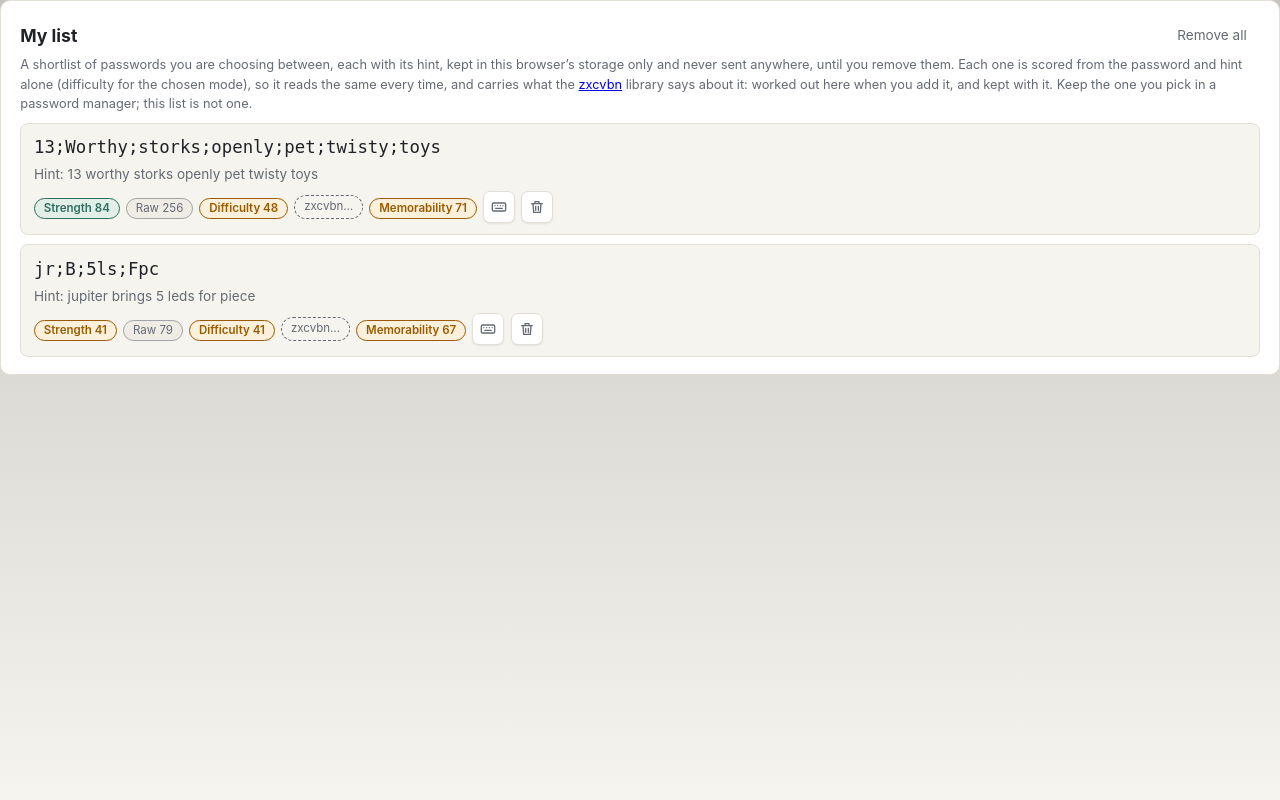
SelectedList › shows each entry with its hint and its cold score, and keeps the date out of sight
Expected: the number of list items is 2, [20,122,1260,235]; [20,244,1260,357]
Expected: the text "13 worthy storks openly pet twisty toys" is shown, [68,166,318,182]
Hover over the element showing "Strength 84": (77, 207) [34,195,120,219]
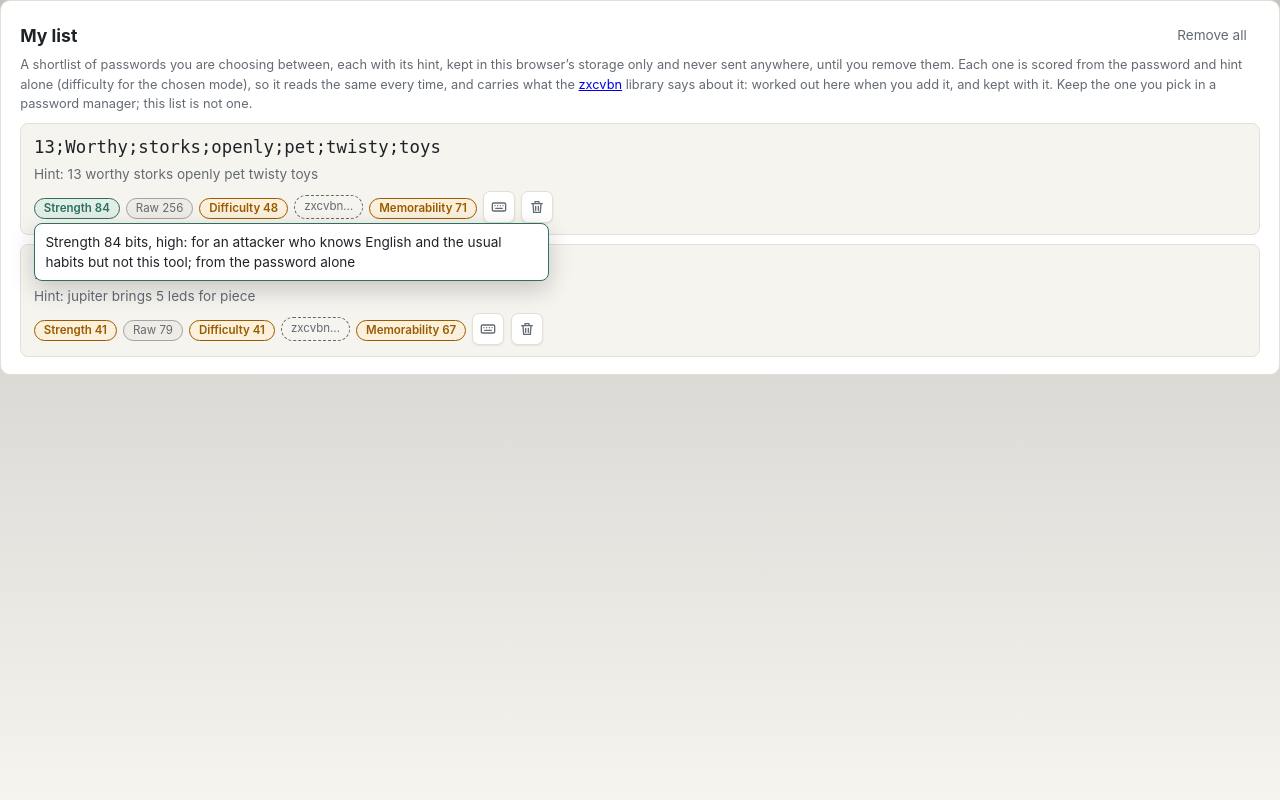
Move the pointer off the element showing "Strength 84", box [34,195,120,219]
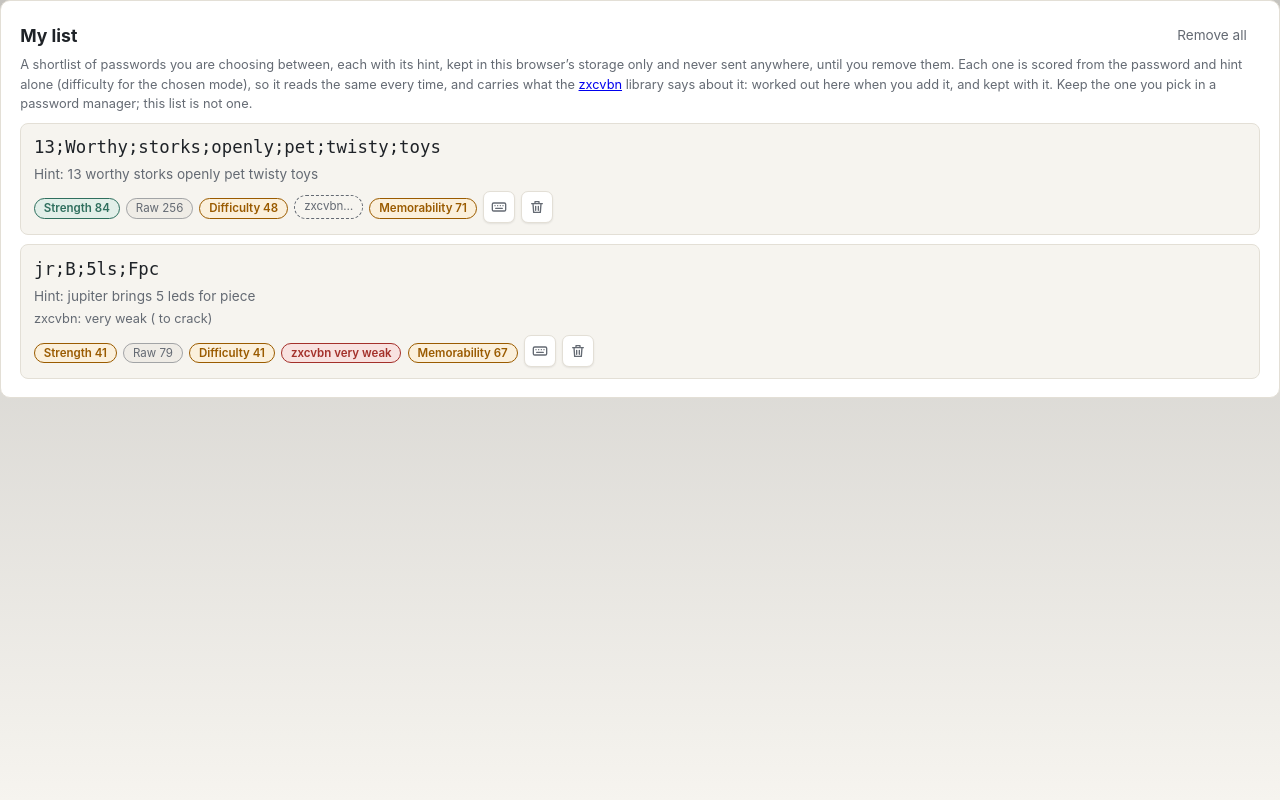
Expected: the tooltip is gone
Hover over the element showing "Difficulty 48": (244, 207) [200,195,288,219]
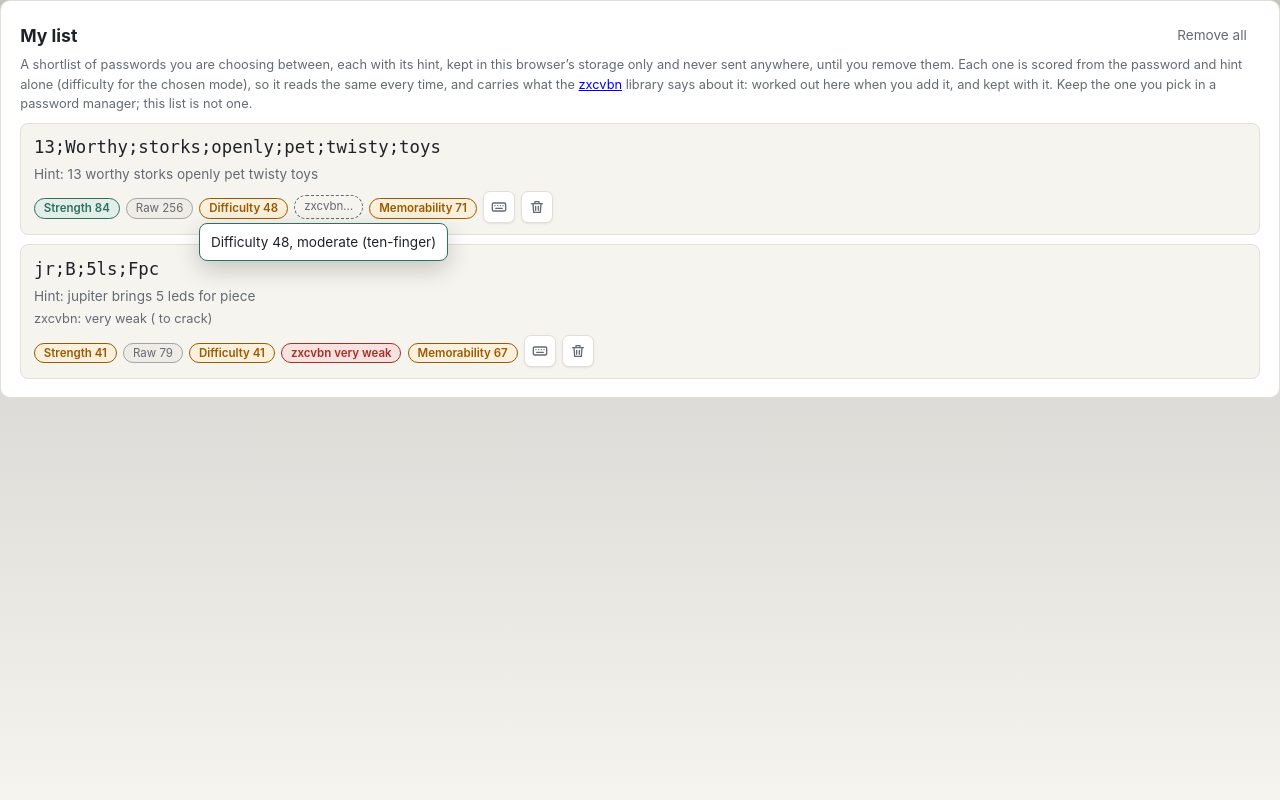
Move the pointer off the element showing "Difficulty 48", box [200,195,288,219]
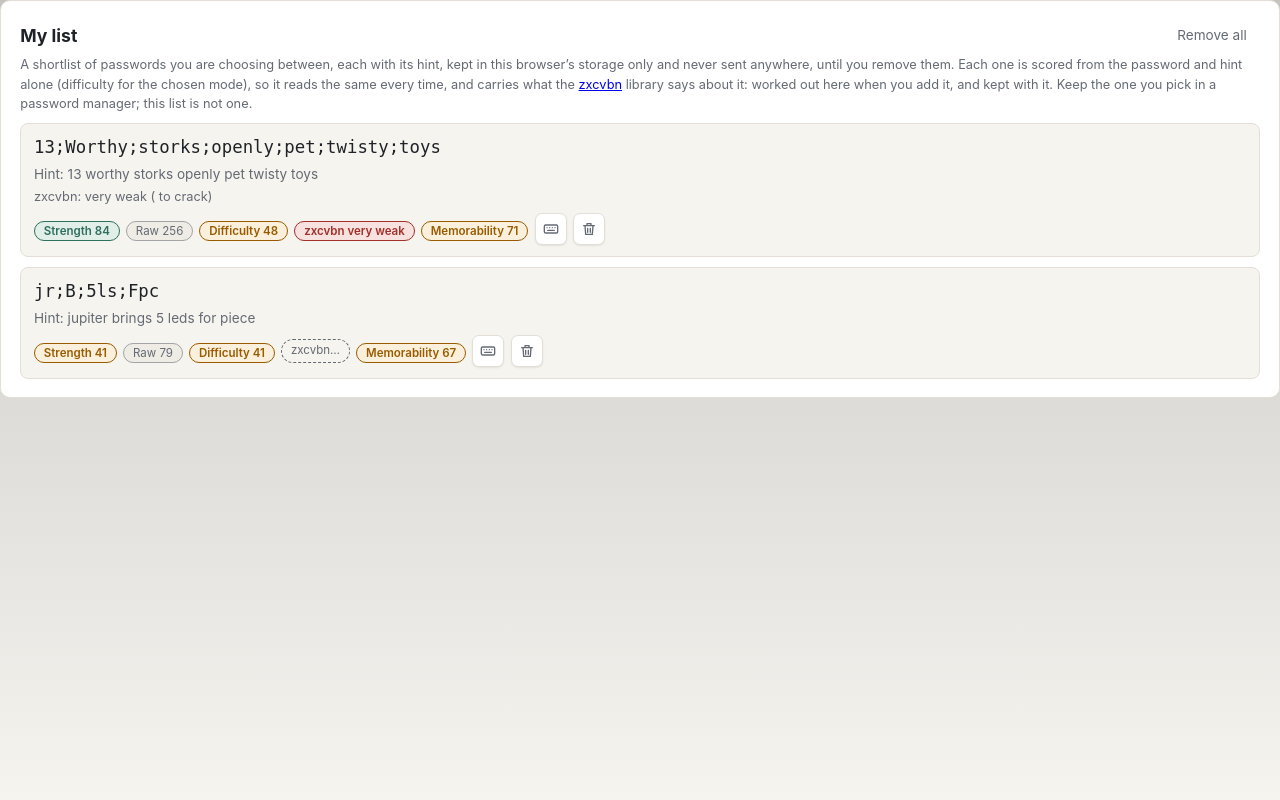
Expected: the tooltip "Difficulty 48, moderate (ten-finger)" is gone
Hover over the element showing "Memorability 71": (475, 229) [421,217,528,241]
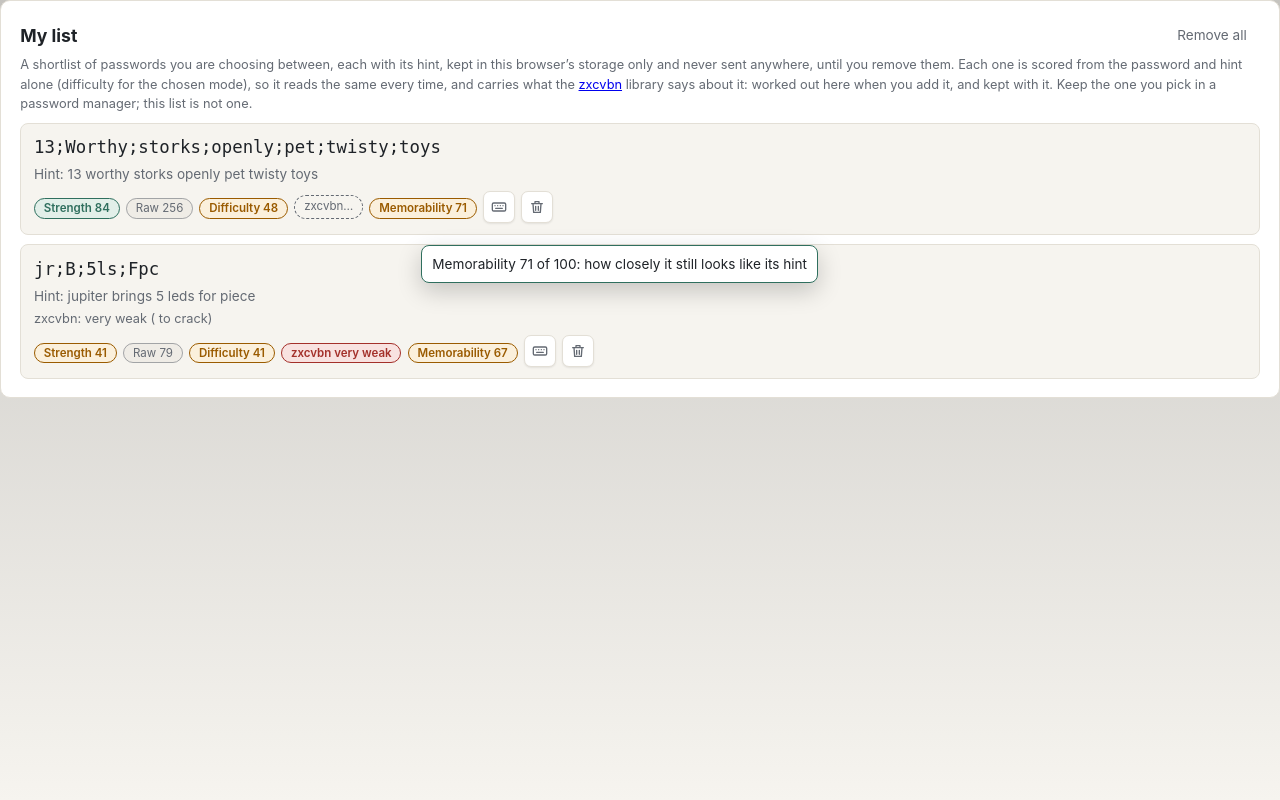
Expected: the tooltip reads "Memorability 71 of 100: how closely it still looks like its hint", [432,256,807,272]
